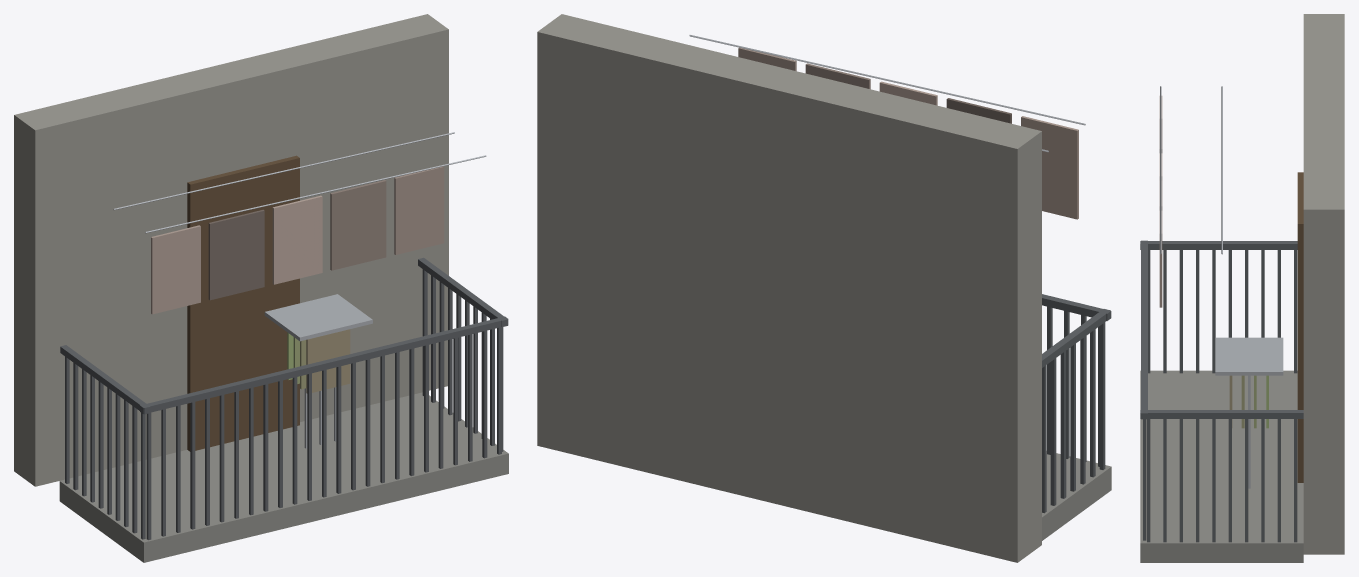
The model's file is balcony_laundry.glb.
3 views of the same model, side by side, from view 1: azimuth 30°, elevation 25°; view 2: azimuth 150°, elevation 25°; view 3: azimuth 270°, elevation 25° (orthographic). The views are drawn at different scales.
Parts seen in each view (by area): view 1: wall, slab, door_closed_panel, cloth.001, cloth.003, cloth.002, cloth.004, cloth, rail_top, rack_top, rack_cloth, rail_top_side (+38 smaller); view 2: wall, cloth, slab, bar_side.008, bar_side.018, bar_side.010, rail_top_side, rope, bar_side.012, bar_side.016, bar_side.014, bar_side.006 (+3 smaller); view 3: slab, wall, rack_top, door_closed_panel, rail_top_side.001, rail_top_side, rail_top, bar_side.005, bar_side.011, bar_side.016, bar_side.017, bar_side (+20 smaller).
Part boxes in pixels (x1,y1,x2,y2): wall: [14, 14, 448, 486]; slab: [59, 392, 508, 562]; door_closed_panel: [187, 155, 299, 451]; cloth.001: [208, 209, 264, 300]; cloth.003: [330, 180, 386, 270]; cloth.002: [272, 195, 322, 284]; cloth.004: [394, 166, 444, 254]; cloth: [151, 225, 200, 314]; rail_top: [140, 316, 507, 414]; rack_top: [264, 294, 372, 341]; rack_cloth: [306, 329, 350, 393]; rail_top_side: [60, 345, 150, 414]; wall: [537, 14, 1041, 562]; cloth: [1021, 116, 1078, 219]; slab: [1042, 451, 1111, 540]; bar_side.008: [1050, 358, 1056, 505]; bar_side.018: [1099, 322, 1105, 469]; bar_side.010: [1060, 351, 1066, 498]; rail_top_side: [1042, 309, 1110, 367]; rope: [689, 35, 1085, 125]; bar_side.012: [1070, 343, 1075, 491]; bar_side.016: [1090, 329, 1095, 477]; bar_side.014: [1080, 336, 1085, 484]; bar_side.006: [1042, 365, 1046, 513]; slab: [1140, 370, 1303, 562]; wall: [1303, 14, 1344, 554]; rack_top: [1215, 337, 1283, 375]; door_closed_panel: [1297, 172, 1303, 482]; rail_top_side.001: [1140, 410, 1303, 418]; rail_top_side: [1140, 241, 1297, 249]; rail_top: [1141, 240, 1147, 419]; bar_side.005: [1261, 419, 1264, 542]; bar_side.011: [1212, 419, 1215, 542]; bar_side.016: [1163, 250, 1166, 373]; bar_side.017: [1163, 419, 1166, 542]; bar_side: [1294, 250, 1297, 373].
Size of what is drawn, in the model's own units: 3.4 by 2.96 by 1.5.
